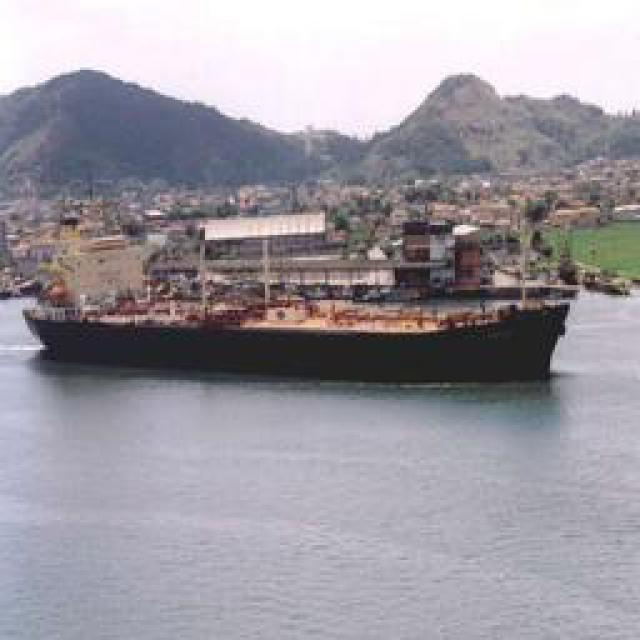Ship: (21, 271, 574, 387)
